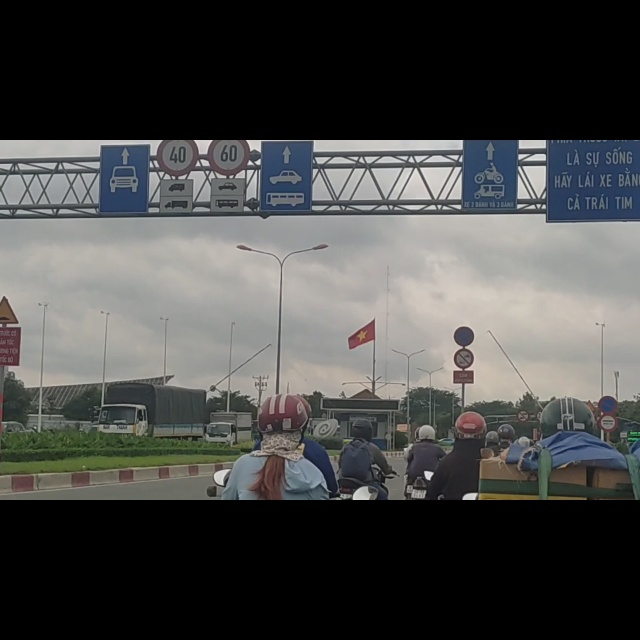bien_cam: (156, 1, 199, 64), (208, 2, 250, 63), (1, 276, 18, 326), (454, 331, 475, 366), (454, 370, 475, 405), (598, 455, 618, 486), (598, 487, 617, 517), (517, 480, 530, 501)
